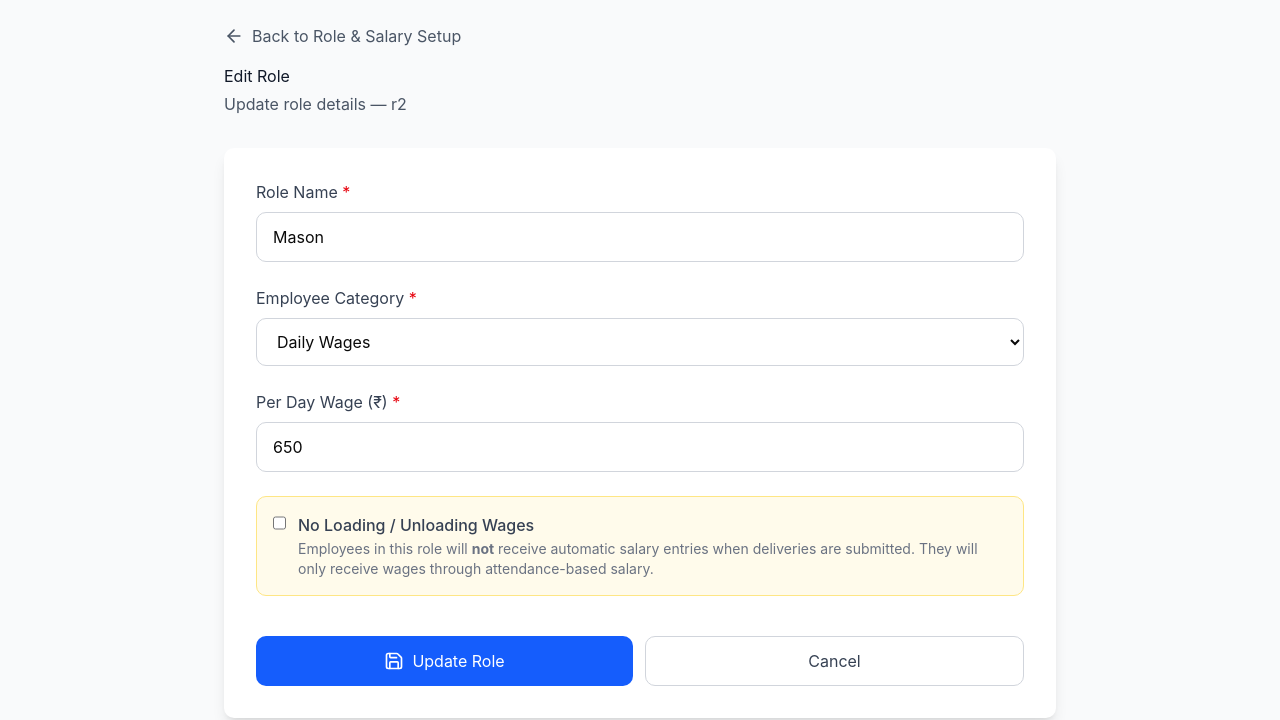
Test: EditRoleScreen › changing the category › switches category and clears the figures when the answer is Yes
Expected: the field labelled "Role Name *" holds "Mason", [256,212,1024,262]
Select "Fixed Salary" in the dropdown labelled "Employee Category *": (640, 342) [256,318,1024,366]
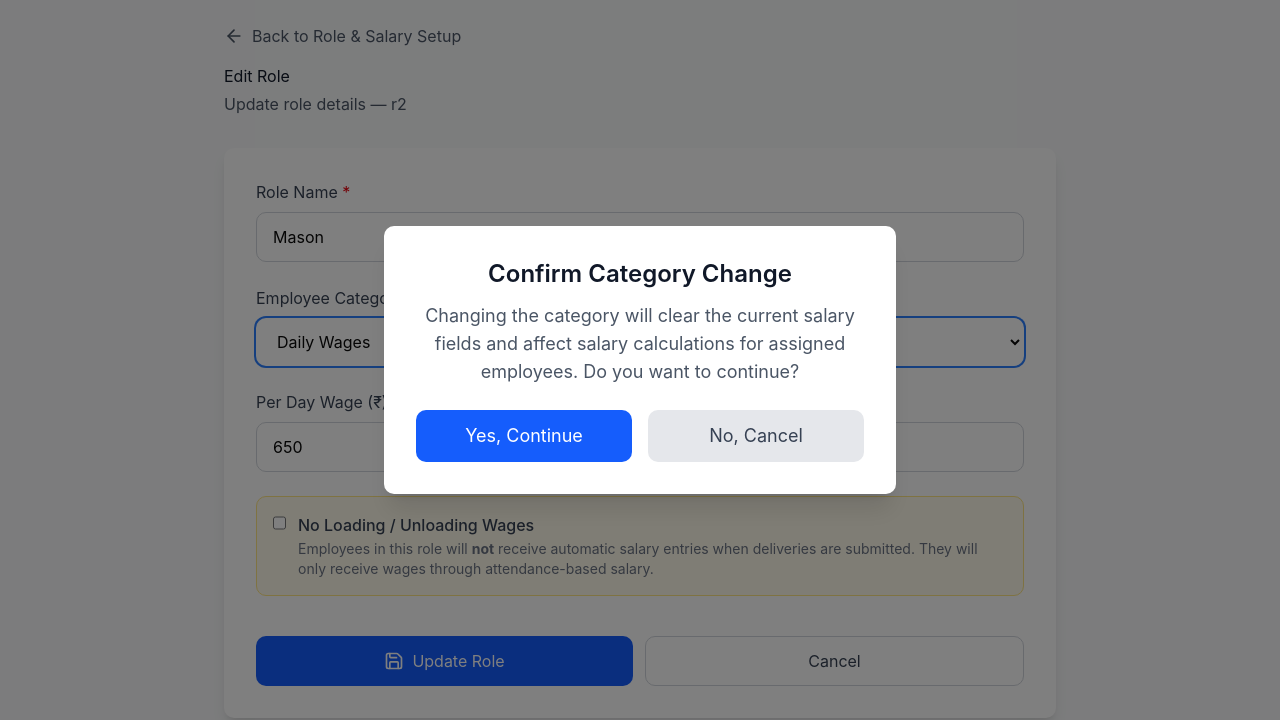
Click the button "Yes, Continue": (524, 436) [416,410,632,462]
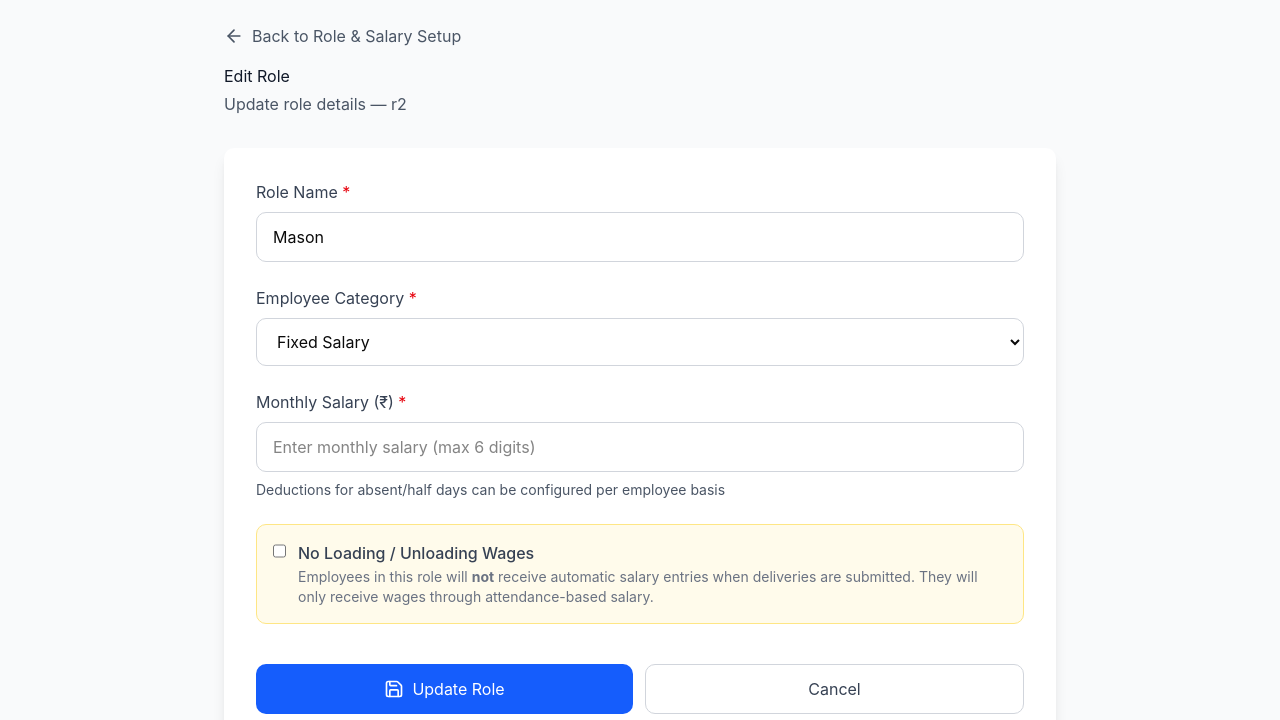
Expected: the number field labelled "Monthly Salary (₹) *" is not empty, [256,422,1024,472]
Expected: the label labelled "Per Day Wage" is gone
